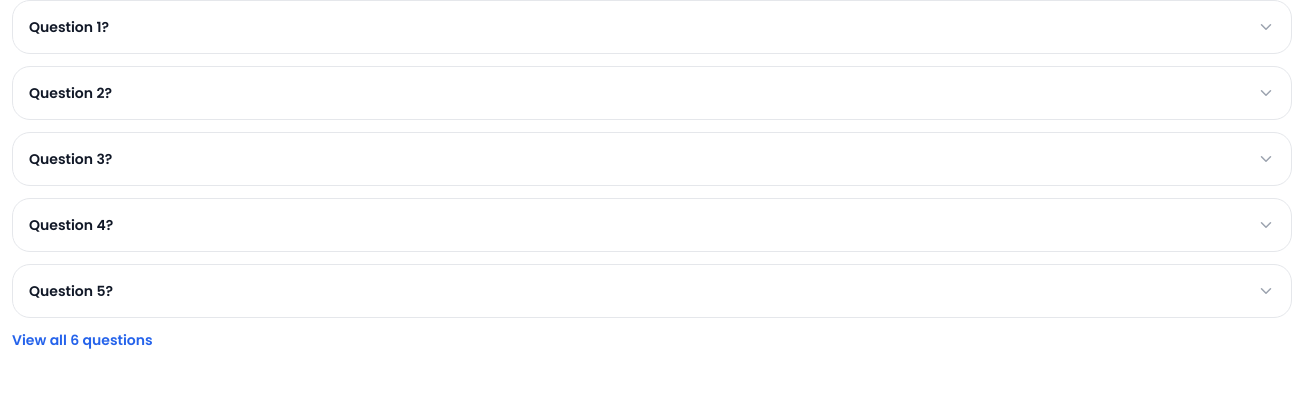
Scenario: BuyingGuideFaqAccordion › expands an answer independently via a real button with correct aria-expanded
Expected: the text "Answer 1." is not shown
Step 1. Click the button "Question 1?" → (69,27), box x1=29 y1=17 x2=1275 y2=37
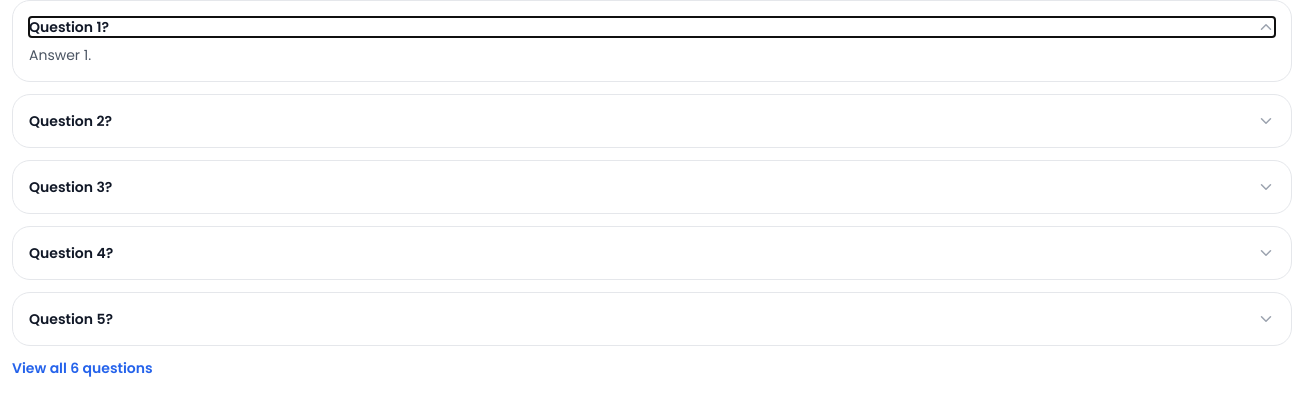
Result: the button "Question 1?" is expanded at x1=29 y1=17 x2=1275 y2=37
Result: the text "Answer 1." is shown at x1=29 y1=45 x2=91 y2=65
